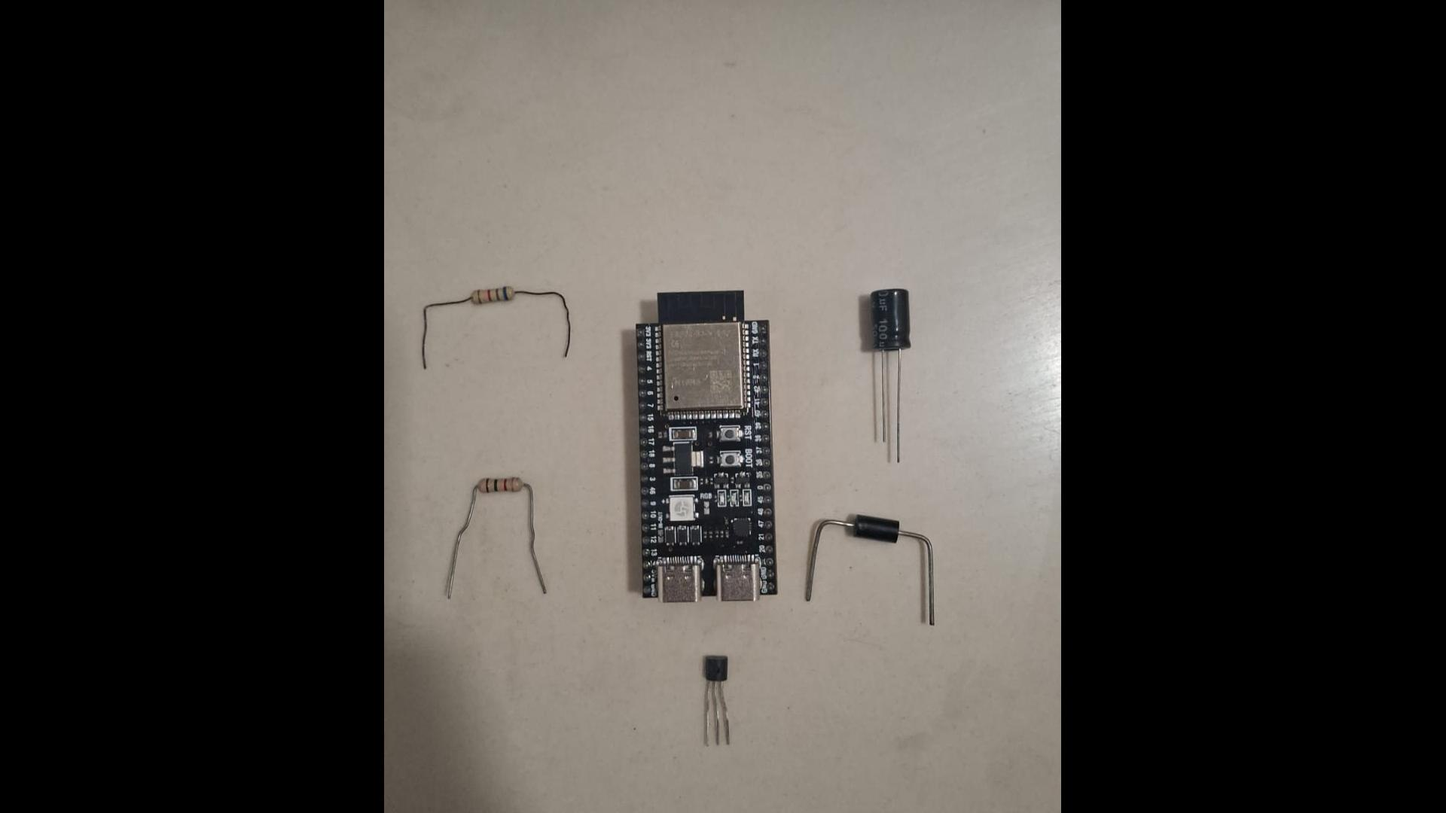Capacitor: (860, 286, 912, 466)
Diodo: (805, 512, 935, 626)
ESP32: (630, 290, 778, 605)
Resistencia: (421, 284, 571, 369), (445, 475, 547, 599)
Transistor: (701, 652, 731, 749)
